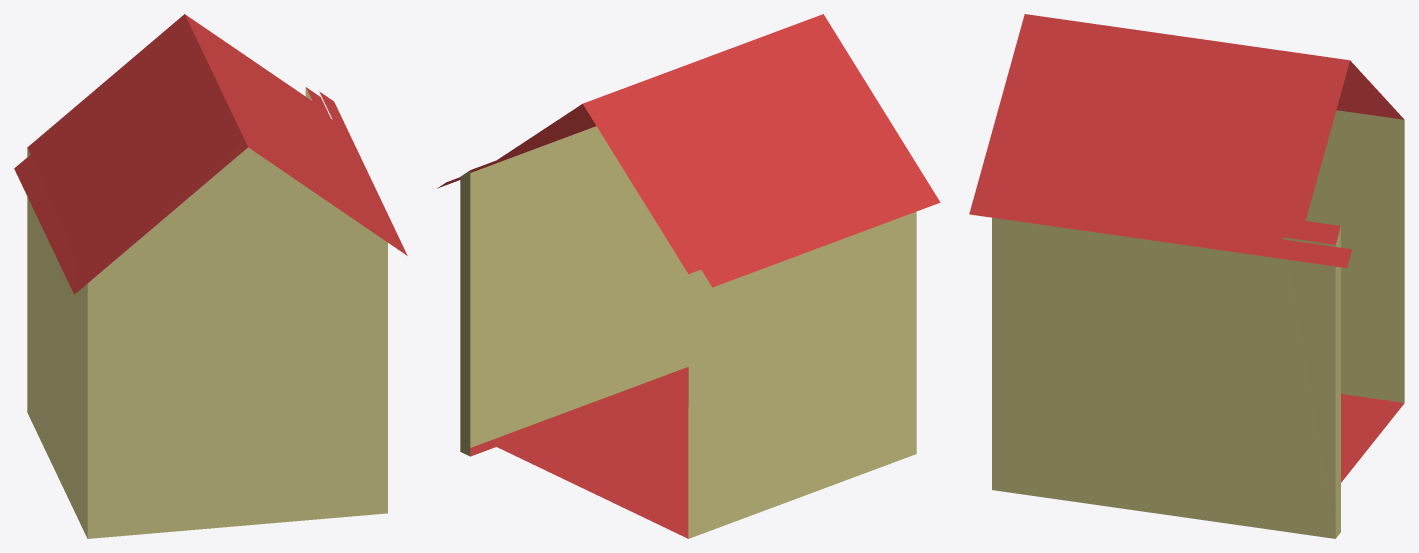
The picture shows the model from 3 angles, left to right: view 1: azimuth 30°, elevation 25°; view 2: azimuth 150°, elevation 25°; view 3: azimuth 270°, elevation 25°; orthographic projection. The views are drawn at different scales.
Size of the model in its own units: 13.01 by 12.02 by 12.52.
